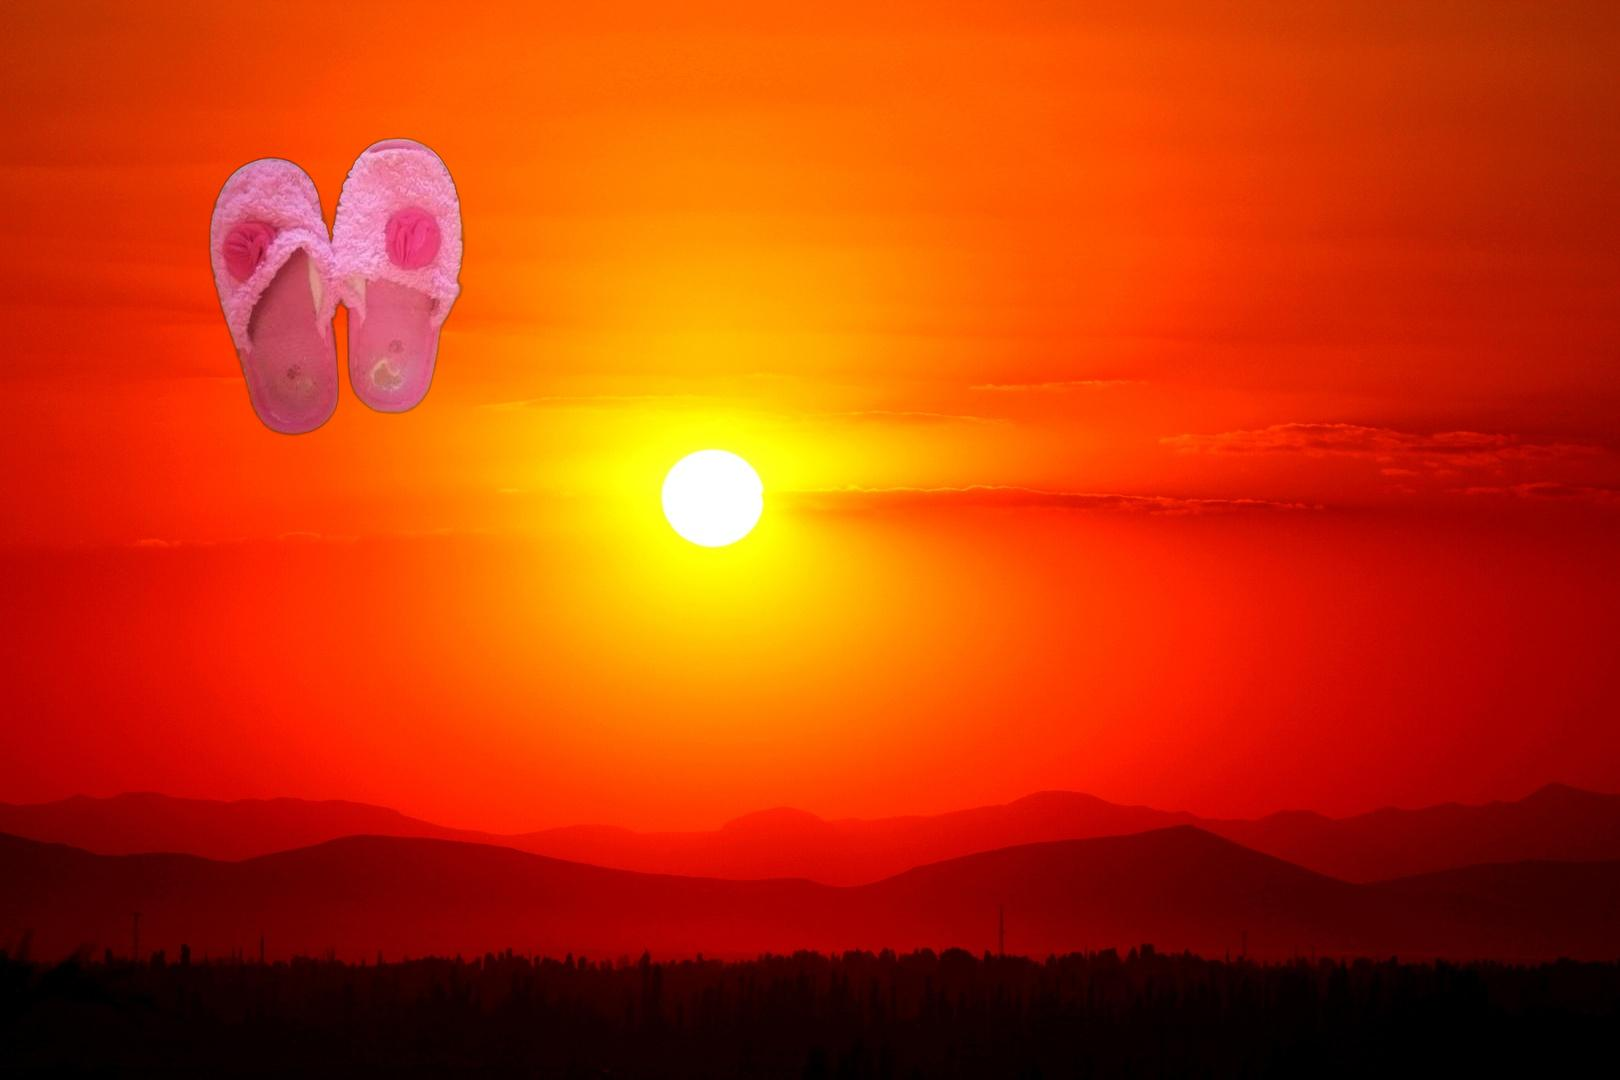shoes: (206, 134, 468, 439)
